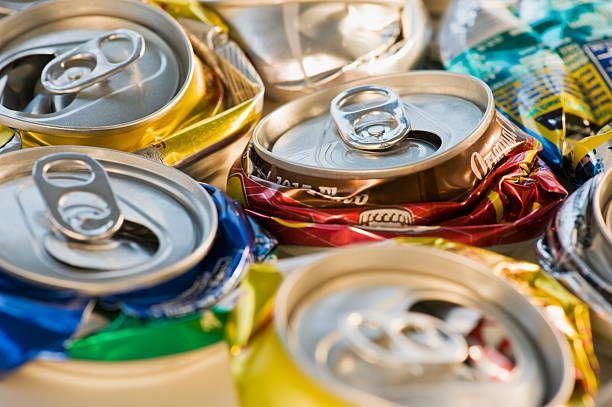metal: (3, 142, 257, 395), (229, 66, 565, 249), (233, 240, 586, 406), (2, 0, 254, 179)
